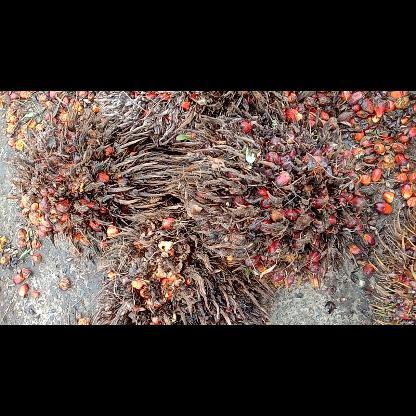Terlalu masak: (166, 104, 374, 298), (6, 100, 170, 256), (93, 202, 281, 324), (88, 90, 240, 150)
